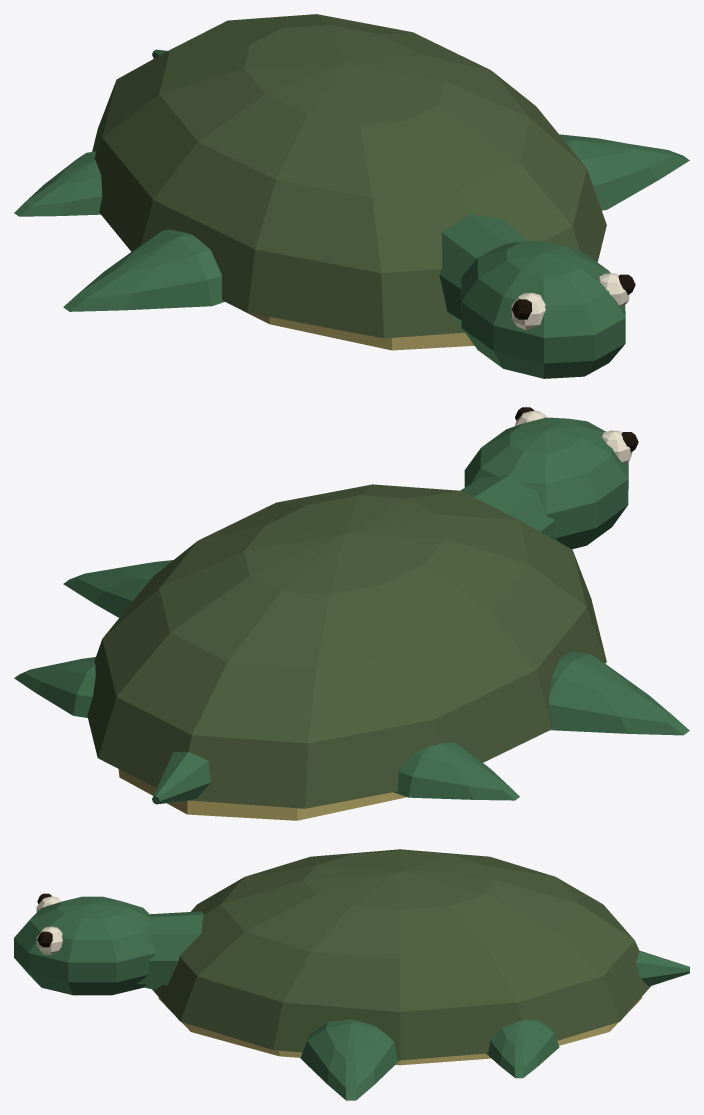
The model's file is SeaTurtle.fbx.
3 views of the same model, one above another, from view 1: azimuth 30°, elevation 25°; view 2: azimuth 150°, elevation 25°; view 3: azimuth 270°, elevation 25° (orthographic). The views are drawn at different scales.
Visible parts, largest first — view 1: SeaTurtle_Carapace, SeaTurtle_Head, SeaTurtle_Flipper_FL, SeaTurtle_Flipper_FR, SeaTurtle_Neck, SeaTurtle_Flipper_RL, SeaTurtle_Plastron, SeaTurtle_Eye_L, SeaTurtle_Eye_R; view 2: SeaTurtle_Carapace, SeaTurtle_Head, SeaTurtle_Flipper_FL, SeaTurtle_Flipper_RL, SeaTurtle_Plastron, SeaTurtle_Flipper_RR, SeaTurtle_Flipper_FR, SeaTurtle_Neck, SeaTurtle_Tail; view 3: SeaTurtle_Carapace, SeaTurtle_Head, SeaTurtle_Flipper_FR, SeaTurtle_Flipper_RR, SeaTurtle_Neck, SeaTurtle_Plastron, SeaTurtle_Tail, SeaTurtle_Eye_R.
Boxes of the visible parts, x1,y1,x2,y2 form: SeaTurtle_Carapace: (92,14,606,338); SeaTurtle_Head: (461,240,625,378); SeaTurtle_Flipper_FL: (63,229,224,311); SeaTurtle_Flipper_FR: (559,134,689,210); SeaTurtle_Neck: (439,214,527,325); SeaTurtle_Flipper_RL: (14,151,102,216); SeaTurtle_Plastron: (234,306,474,350); SeaTurtle_Eye_L: (511,293,545,330); SeaTurtle_Eye_R: (599,273,629,306); SeaTurtle_Carapace: (87,484,606,808); SeaTurtle_Head: (464,417,628,549); SeaTurtle_Flipper_FL: (549,651,689,735); SeaTurtle_Flipper_RL: (393,742,519,800); SeaTurtle_Plastron: (118,769,406,820); SeaTurtle_Flipper_RR: (14,657,95,717); SeaTurtle_Flipper_FR: (63,560,173,617); SeaTurtle_Neck: (460,475,559,542); SeaTurtle_Tail: (152,752,210,804); SeaTurtle_Carapace: (152,849,650,1060); SeaTurtle_Head: (14,896,155,995); SeaTurtle_Flipper_FR: (300,1019,399,1100); SeaTurtle_Flipper_RR: (486,1019,559,1078); SeaTurtle_Neck: (137,911,204,989); SeaTurtle_Plastron: (158,997,641,1065); SeaTurtle_Tail: (636,951,689,986); SeaTurtle_Eye_R: (36,926,62,954).
Size of the model in its own units: 314 by 80 by 386.
